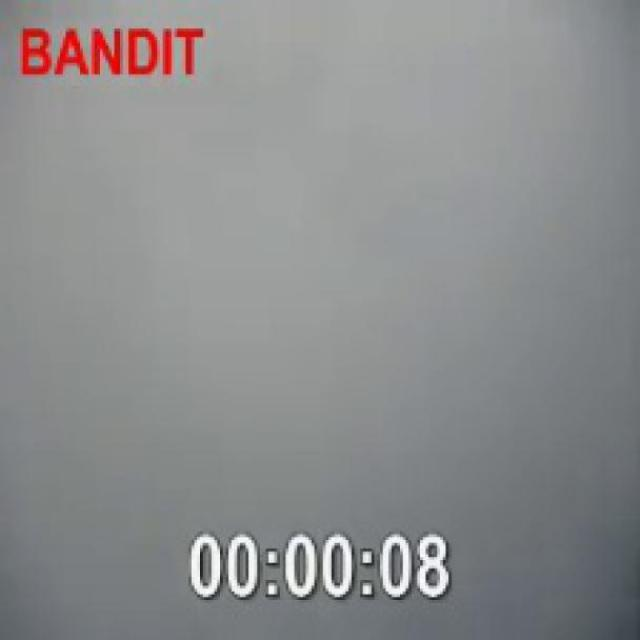Smoke: (8, 5, 637, 638)
